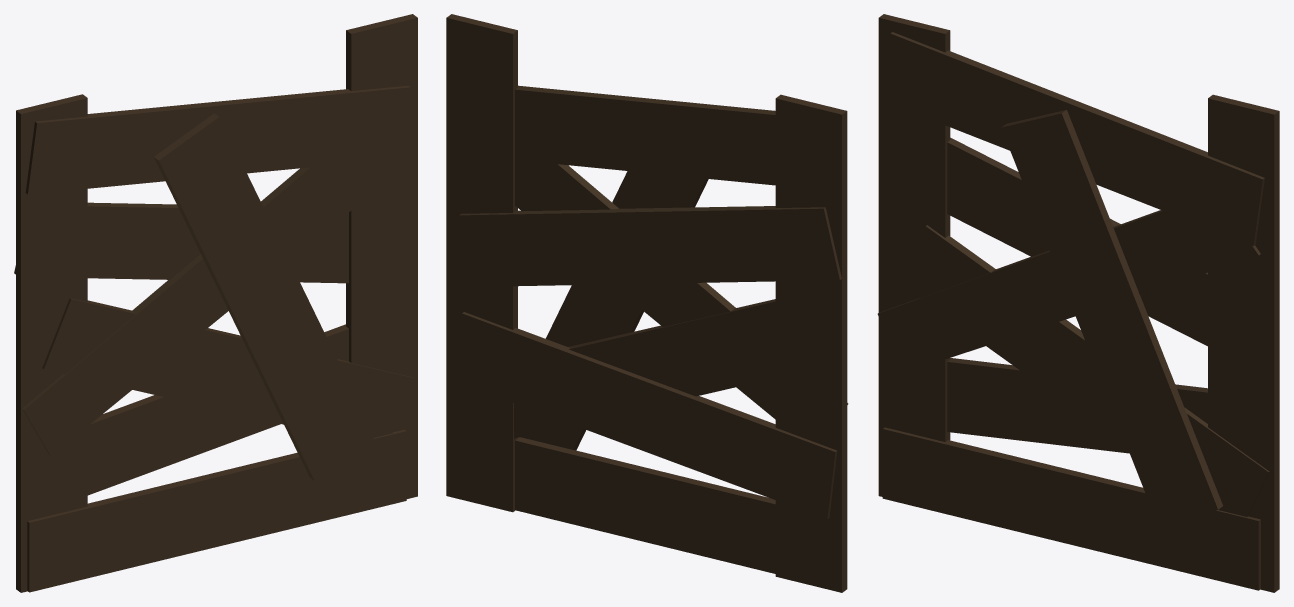
The model's file is EVT_OC_MAINGATE02_02.OBJ.
3 views of the same model, side by side, from view 1: azimuth 30°, elevation 25°; view 2: azimuth 150°, elevation 25°; view 3: azimuth 330°, elevation 25° (orthographic).
Visible parts, largest first — view 1: EVT_OC_MAINGATE02_02; view 2: EVT_OC_MAINGATE02_02; view 3: EVT_OC_MAINGATE02_02.
Part boxes in pixels (left/top/right/bottom): EVT_OC_MAINGATE02_02: left=14, top=14, right=417, bottom=592; EVT_OC_MAINGATE02_02: left=446, top=14, right=848, bottom=592; EVT_OC_MAINGATE02_02: left=877, top=14, right=1279, bottom=592.
Size of the model in its own units: 3.45 by 3.98 by 0.2236.
